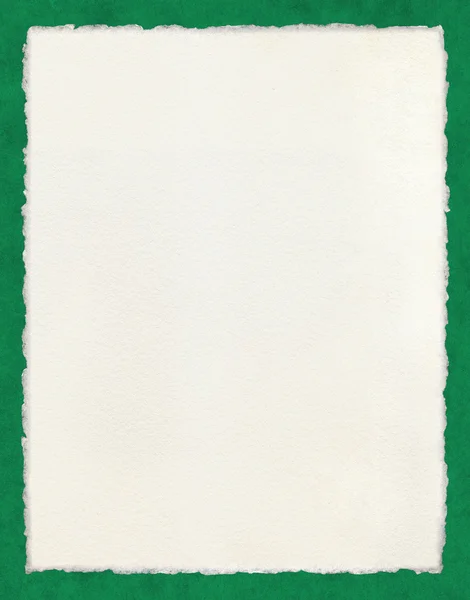page: (29, 30, 439, 568)
